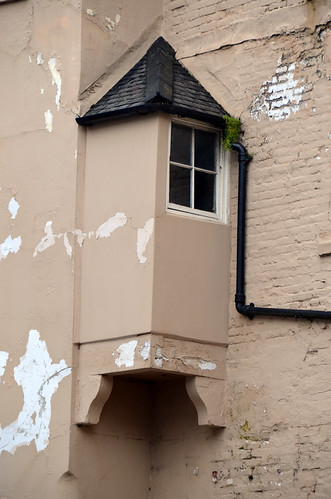building: (8, 4, 331, 487)
window: (163, 115, 222, 215)
